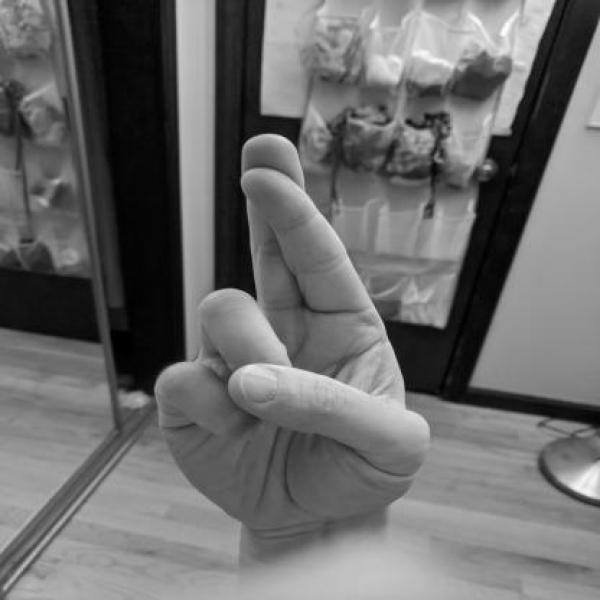R: (146, 130, 444, 551)
